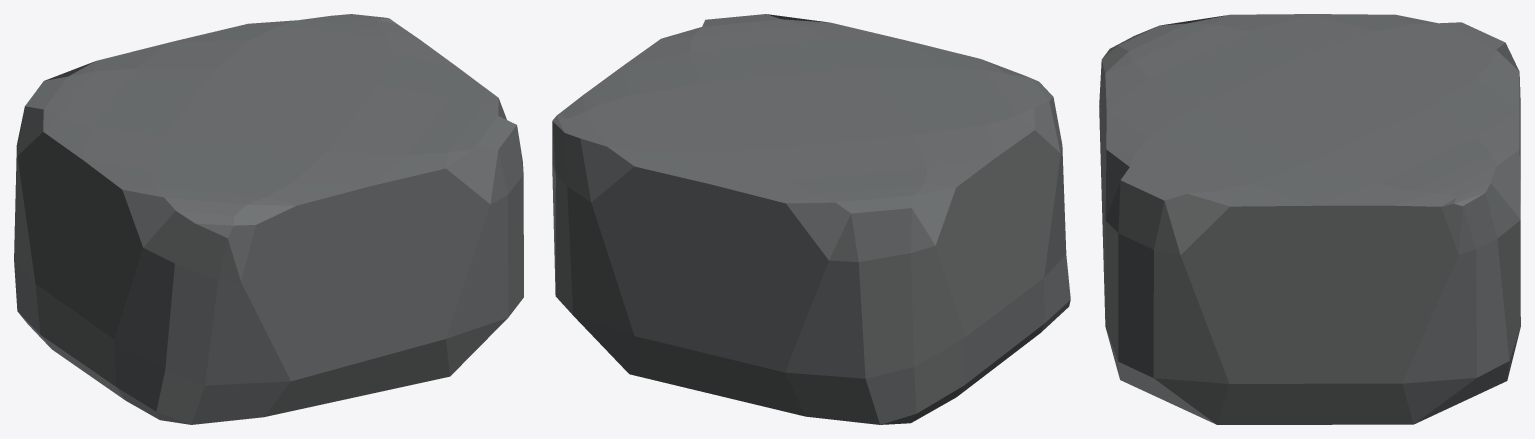
The model's file is NewStoneForFountain.fbx.
The picture shows the model from 3 angles, left to right: view 1: azimuth 30°, elevation 25°; view 2: azimuth 150°, elevation 25°; view 3: azimuth 270°, elevation 25°; orthographic projection. The views are drawn at different scales.
Visible parts, largest first — view 1: Cube; view 2: Cube; view 3: Cube.
Boxes of the visible parts, x1,y1,x2,y2 form: Cube: (14, 14, 523, 424); Cube: (552, 14, 1070, 424); Cube: (1099, 14, 1520, 424).
Size of the model in its own units: 484 by 271 by 439.
